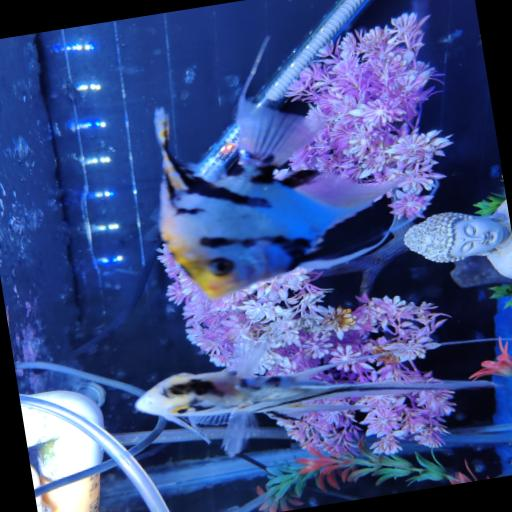Fish: (155, 40, 396, 299), (135, 353, 493, 455)
